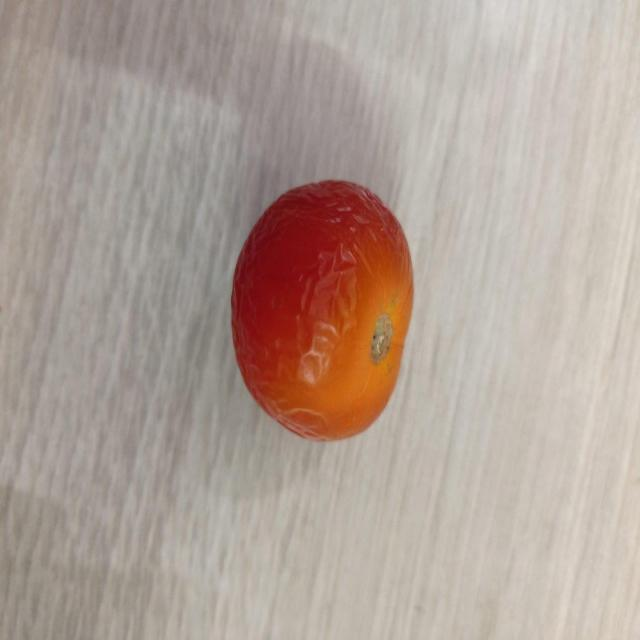overripe: (229, 177, 419, 445)
